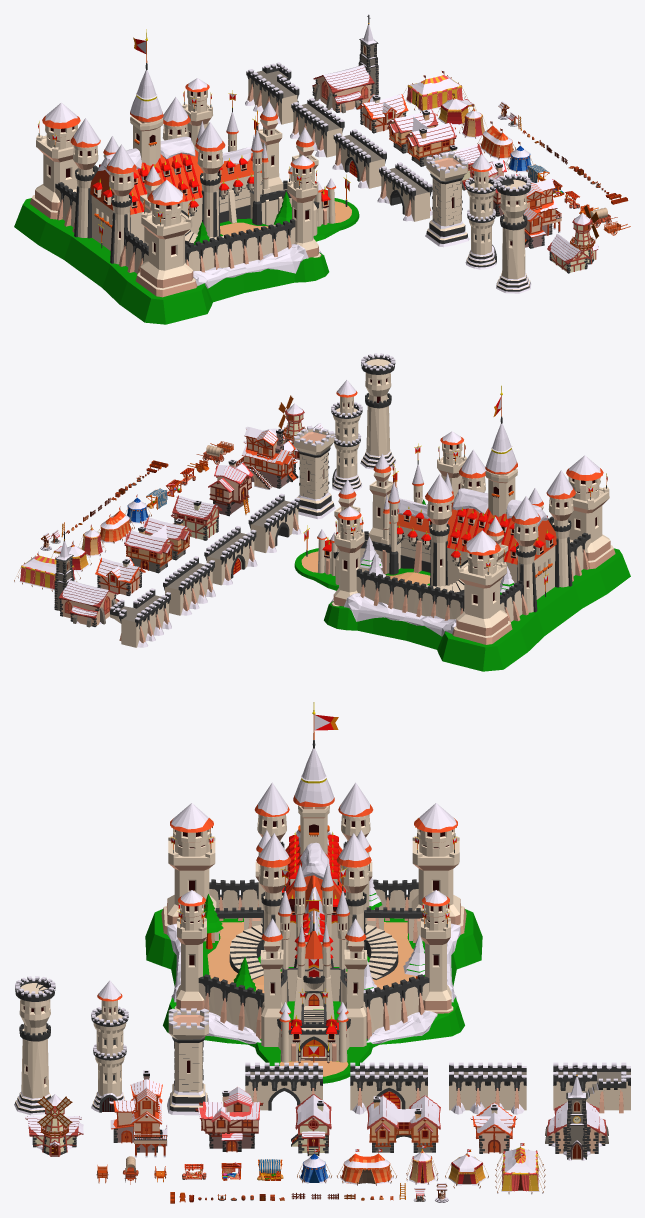
Rendered from low_poly_winter_medieval_castle_and_town_pack.glb.
3 renders of one model, top to bottom at view 1: azimuth 30°, elevation 25°; view 2: azimuth 150°, elevation 25°; view 3: azimuth 270°, elevation 25°, orthographic. The views are drawn at different scales.
Parts seen in each view (by area): view 1: Castle, Tower2, Tower1, Church, Tower3, House4, Wall4, Wall1, Wall2, Windmill, Wall3, House1 (+8 smaller); view 2: Castle, Tower1, Tower2, Church, House1, House4, Tower3, Wall4, Wall3, Wall1, Wall2, House2 (+8 smaller); view 3: Castle, Tower2, Wall3, Tower1, Tower3, House4, Church, Wall2, House1, Wall4, House2, Wall1 (+8 smaller).
Boxes of the visible parts, bbox=[...] form: Castle: bbox=[14, 29, 359, 324]; Tower2: bbox=[496, 173, 531, 293]; Tower1: bbox=[425, 151, 469, 247]; Church: bbox=[312, 14, 378, 113]; Tower3: bbox=[465, 154, 496, 269]; House4: bbox=[387, 109, 456, 166]; Wall4: bbox=[245, 62, 299, 124]; Wall1: bbox=[377, 162, 432, 221]; Wall2: bbox=[332, 129, 386, 188]; Windmill: bbox=[547, 204, 598, 273]; Wall3: bbox=[290, 98, 344, 157]; House1: bbox=[503, 178, 561, 248]; Castle: bbox=[294, 385, 630, 671]; Tower1: bbox=[293, 425, 335, 519]; Tower2: bbox=[360, 353, 396, 469]; Church: bbox=[54, 531, 119, 627]; House1: bbox=[235, 426, 298, 489]; House4: bbox=[124, 517, 191, 573]; Tower3: bbox=[331, 380, 362, 491]; Wall4: bbox=[110, 588, 171, 647]; Wall3: bbox=[163, 556, 215, 615]; Wall1: bbox=[248, 493, 301, 552]; Wall2: bbox=[204, 526, 257, 585]; House2: bbox=[208, 459, 253, 516]; Castle: bbox=[145, 702, 482, 1083]; Tower2: bbox=[14, 976, 55, 1115]; Wall3: bbox=[449, 1062, 526, 1114]; Tower1: bbox=[167, 1008, 208, 1115]; Tower3: bbox=[91, 980, 128, 1112]; House4: bbox=[367, 1095, 440, 1152]; Church: bbox=[545, 1065, 608, 1160]; Wall2: bbox=[350, 1062, 427, 1114]; House1: bbox=[109, 1070, 167, 1157]; Wall4: bbox=[553, 1062, 630, 1113]; House2: bbox=[195, 1087, 263, 1152]; Wall1: bbox=[245, 1062, 322, 1110].
Size of what is drawn, in the model's own units: 67.31 by 30.32 by 63.65.
1 material, 1 textured.
